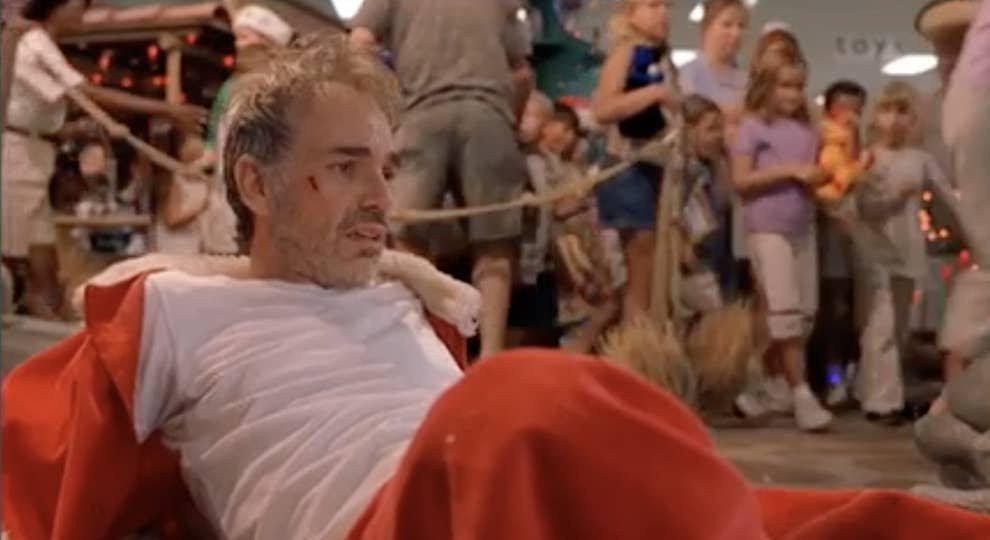Drunk: (297, 77, 397, 286)
